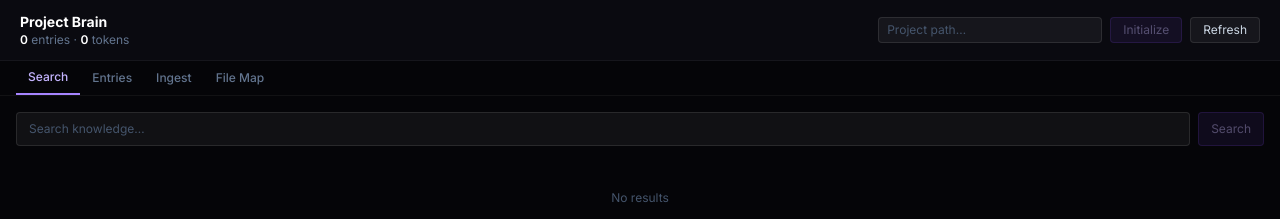
it: BrainView — ingest tab › requires a project before files can be chosen
This screenshot has width=1280, height=219.
What coordinates should you click on to do the following:
click the button "Ingest"
I would click on:
 (174, 78)
Its box is 144,61 -> 204,95.
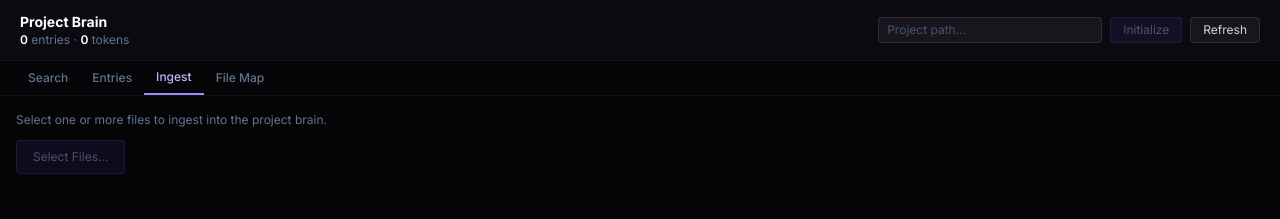
Now the button "Select Files…" is disabled, box 16,140 -> 125,174
